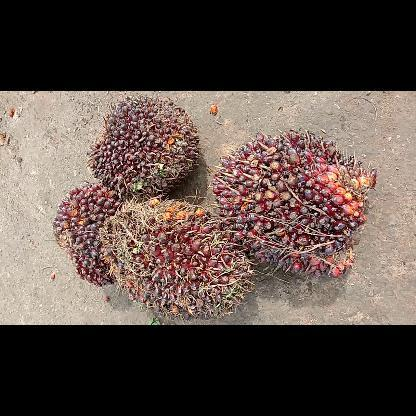Kurang masak: (207, 129, 375, 277), (100, 196, 256, 318), (87, 95, 197, 199), (52, 182, 124, 284)
